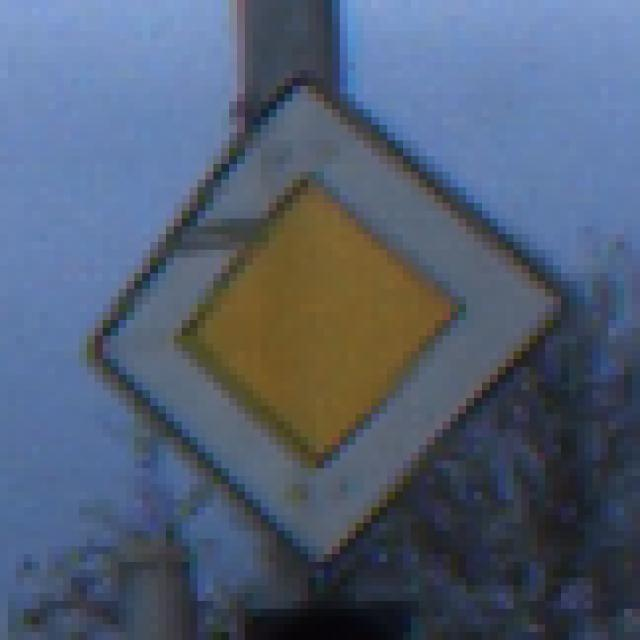Main Road: (64, 56, 586, 586)
